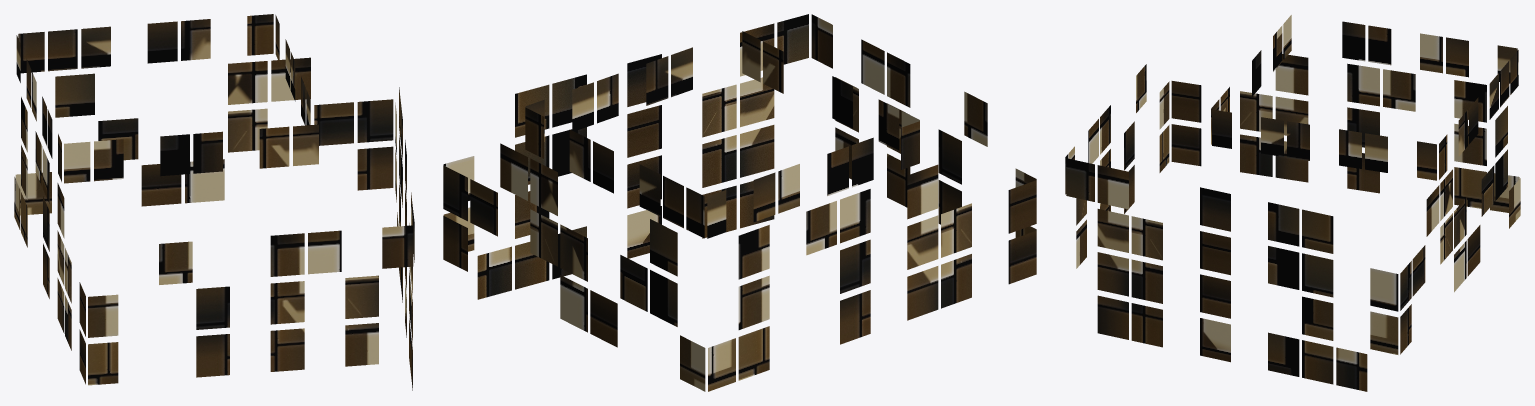
Rendered from Building_02_Glass.fbx.
The picture shows the model from 3 angles, left to right: view 1: azimuth 30°, elevation 25°; view 2: azimuth 150°, elevation 25°; view 3: azimuth 270°, elevation 25°; orthographic projection. The views are drawn at different scales.
Parts seen in each view (by area): view 1: Building_02_Glass; view 2: Building_02_Glass; view 3: Building_02_Glass.
Part boxes in pixels (x1,y1,x2,y2): Building_02_Glass: (14,14,414,390); Building_02_Glass: (443,14,1036,391); Building_02_Glass: (1065,15,1520,391).
Bounding box in the file's own units: 28.63 × 14.52 × 28.49.
1 material, 1 textured.
